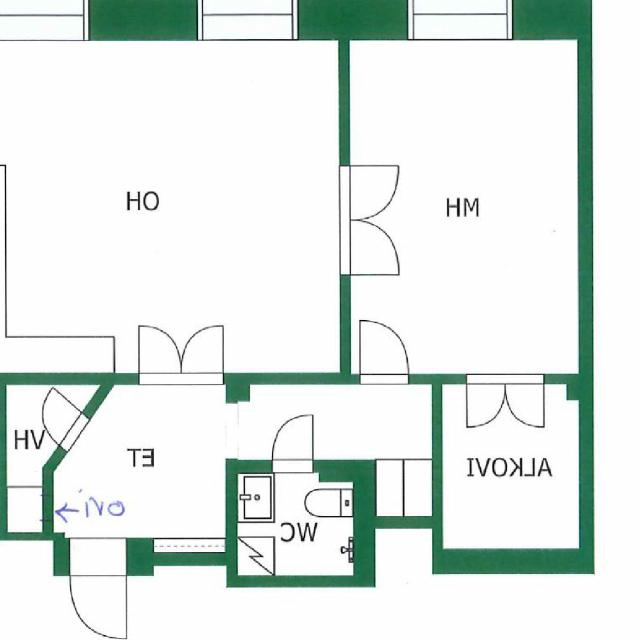door: (70, 538, 127, 639), (29, 387, 90, 453), (340, 220, 400, 275), (340, 165, 400, 220), (360, 319, 409, 385), (139, 326, 182, 385), (182, 326, 224, 385), (272, 414, 314, 473), (505, 373, 544, 428), (467, 373, 505, 428), (42, 495, 76, 521)
